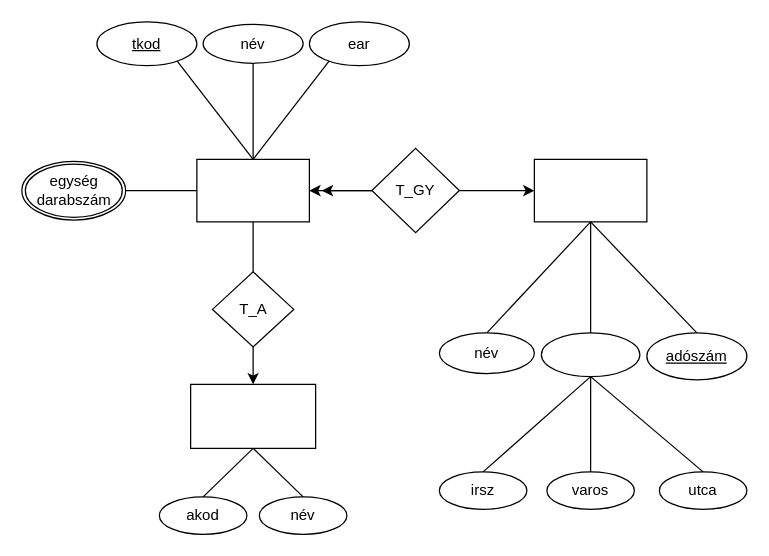
This 769x556 diagram has some shape labels left out. Here are the shapes that lost their labels. From the top down, the centre of each, then its label:
At point 252,190: "Termék".
At point 590,190: "Gyártó".
At point 590,354: "(telephely)".
At point 252,415: "alkatrész".
